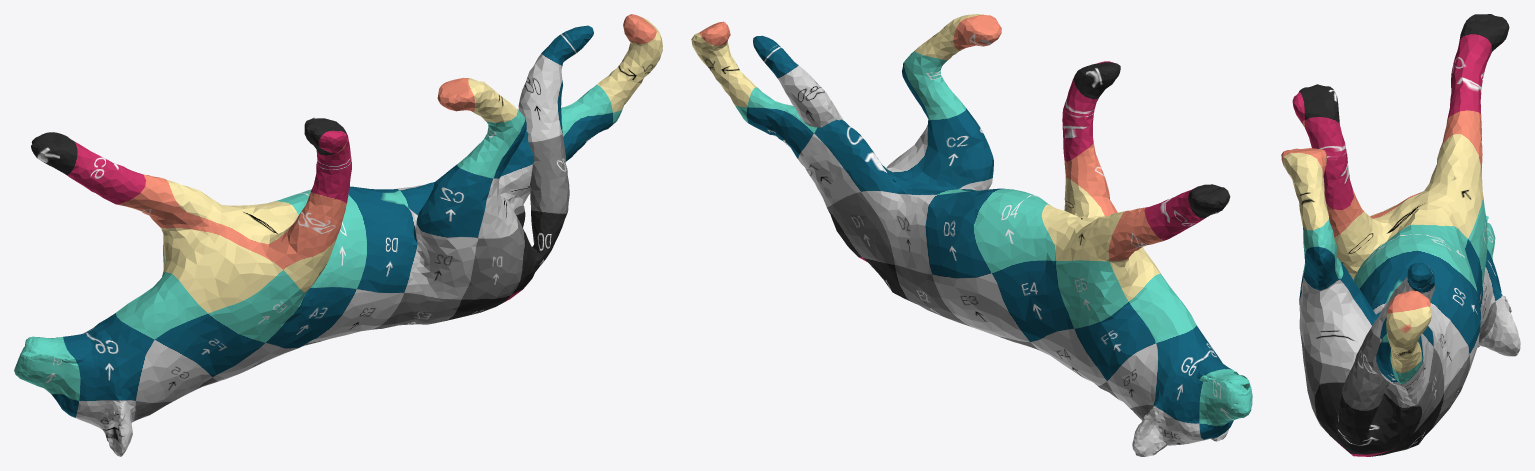
The model's file is horse_08-dog_08.obj.
3 renders of one model, left to right at view 1: azimuth 30°, elevation 25°; view 2: azimuth 150°, elevation 25°; view 3: azimuth 270°, elevation 25°, orthographic. The views are drawn at different scales.
Parts seen in each view (by area): view 1: horse_08-dog_08_export; view 2: horse_08-dog_08_export; view 3: horse_08-dog_08_export.
Boxes of the visible parts, left/top/right/bottom form: horse_08-dog_08_export: left=14, top=14, right=662, bottom=456; horse_08-dog_08_export: left=691, top=14, right=1252, bottom=456; horse_08-dog_08_export: left=1281, top=14, right=1520, bottom=456.
Size of the model in its own units: 1.17 by 0.611 by 0.3694.
